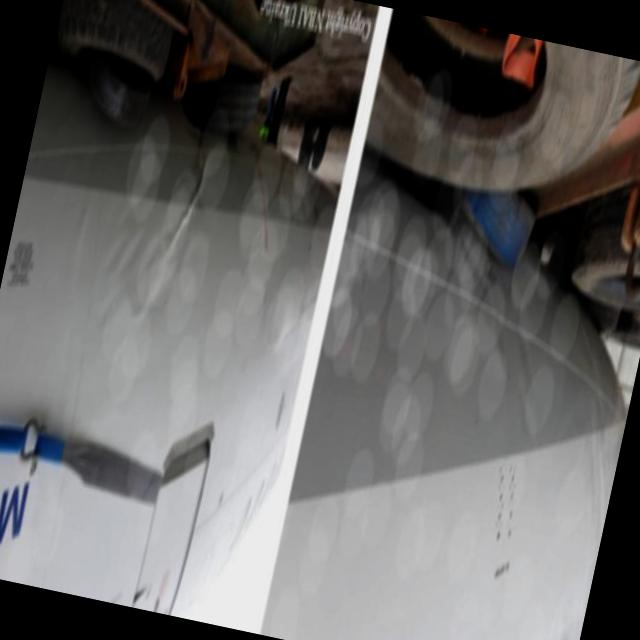dent: (418, 223, 574, 445), (111, 116, 228, 343)
